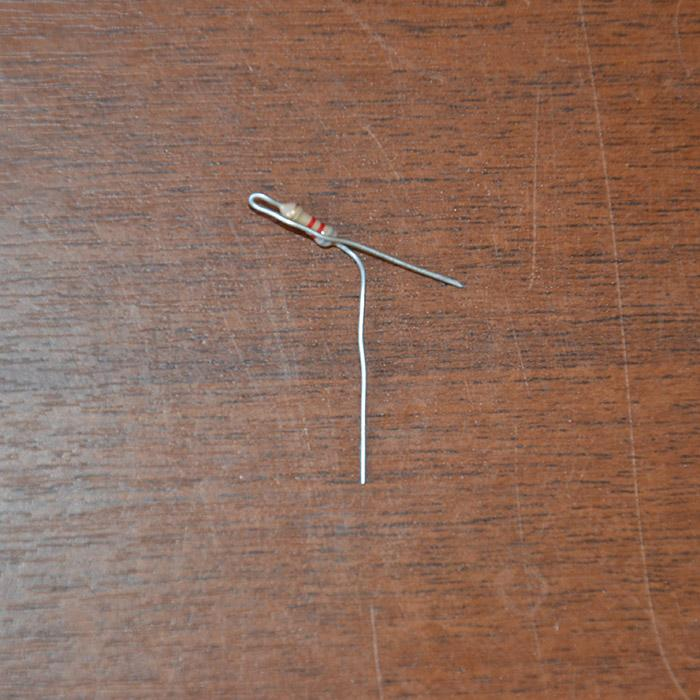resistor: (275, 199, 336, 248)
